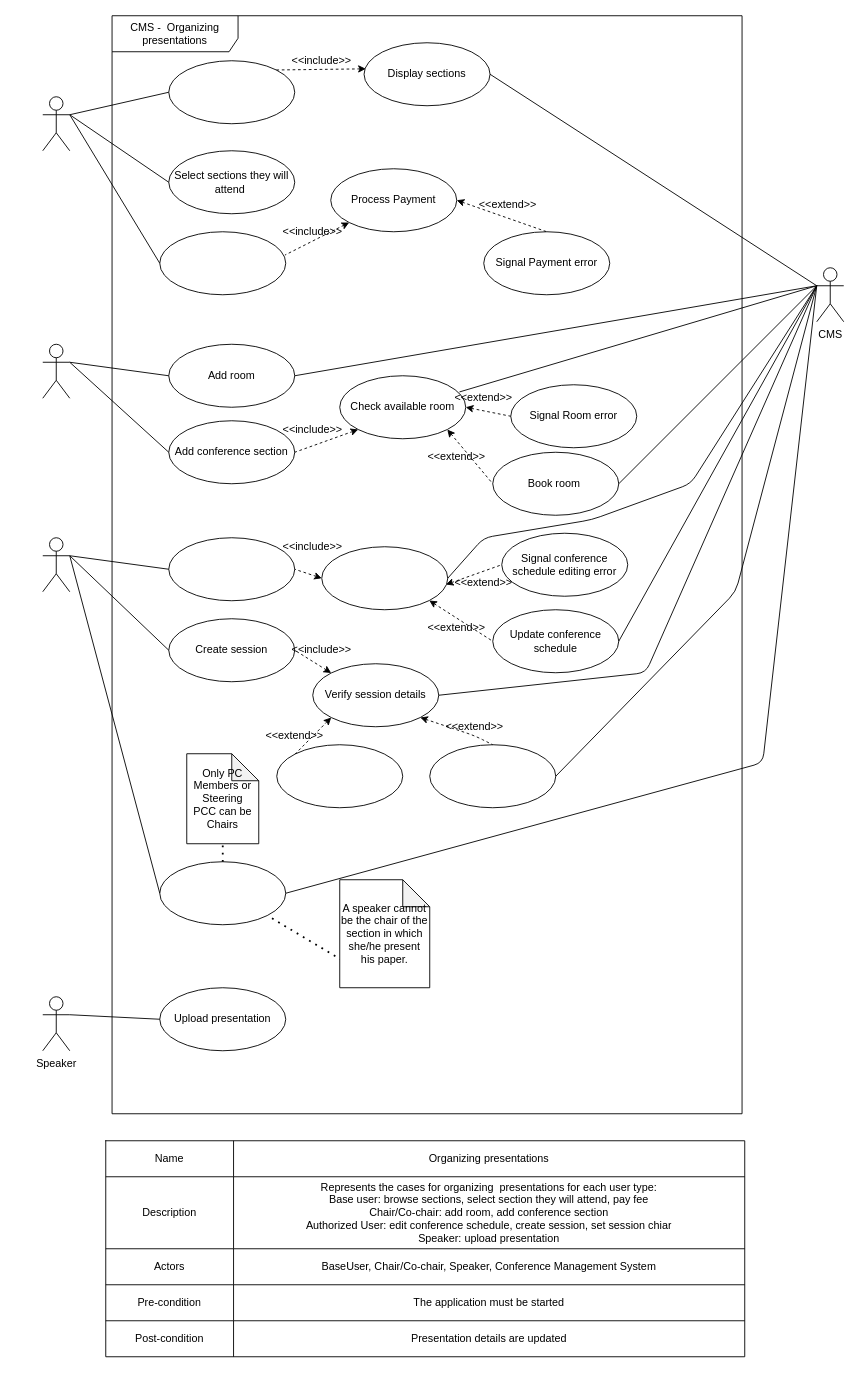
Some shapes in this 860 by 1373 pixel diagram are drawn without their labels. The centre of each missing label's shape, as x and y in pixels:
"Add session" belongs at pixel 492 776.
"Authorized User" belongs at pixel 56 564.
"Base User" belongs at pixel 56 123.
"Browse sections" belongs at pixel 231 92.
"Chair or Co-chair" belongs at pixel 56 370.
"Check valid schedule" belongs at pixel 384 578.
"Edit conference schedule" belongs at pixel 231 569.
"Pay participation fee" belongs at pixel 222 263.
"Set session chair" belongs at pixel 222 893.
"Signal invalid session" belongs at pixel 339 776.
